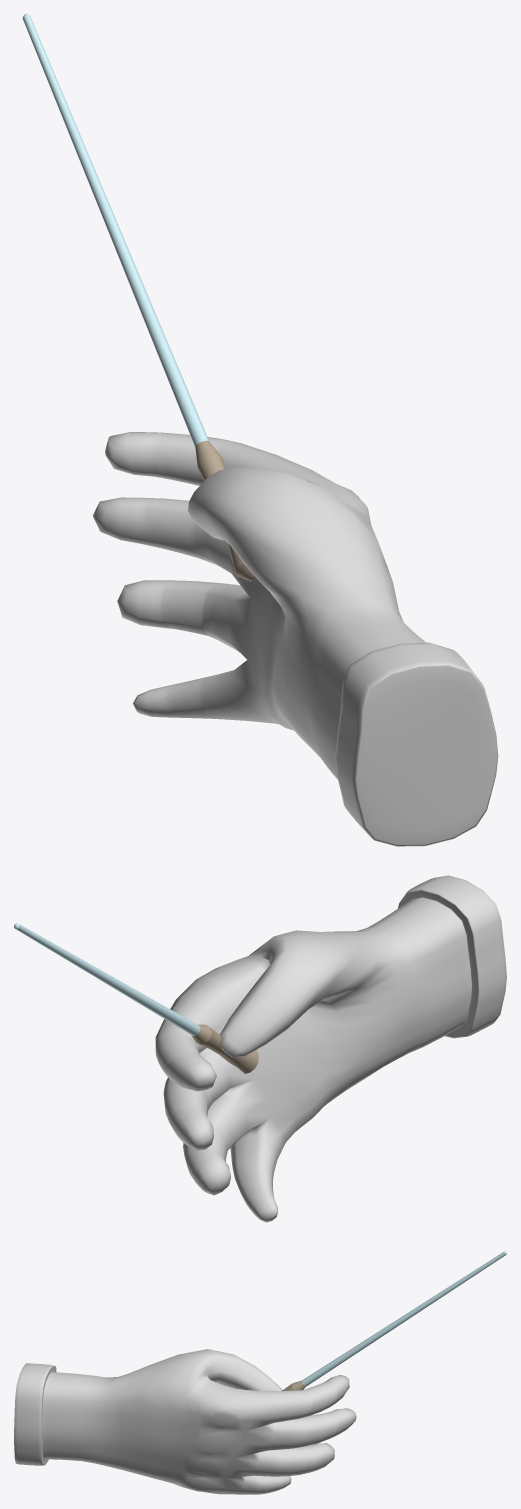
File: SM_Hand.fbx
3 renders of one model, top to bottom at view 1: azimuth 30°, elevation 25°; view 2: azimuth 150°, elevation 25°; view 3: azimuth 270°, elevation 25°, orthographic. The views are drawn at different scales.
Visible parts, largest first — view 1: Hand1, pCylinder2; view 2: Hand1, pCylinder2; view 3: Hand1, pCylinder2.
Boxes of the visible parts, x1,y1,x2,y2 form: Hand1: [92, 432, 498, 846]; pCylinder2: [22, 14, 254, 581]; Hand1: [155, 875, 506, 1222]; pCylinder2: [14, 923, 258, 1073]; Hand1: [14, 1349, 356, 1494]; pCylinder2: [282, 1251, 506, 1391].
Size of the model in its own units: 7.06 by 17.1 by 29.58.
